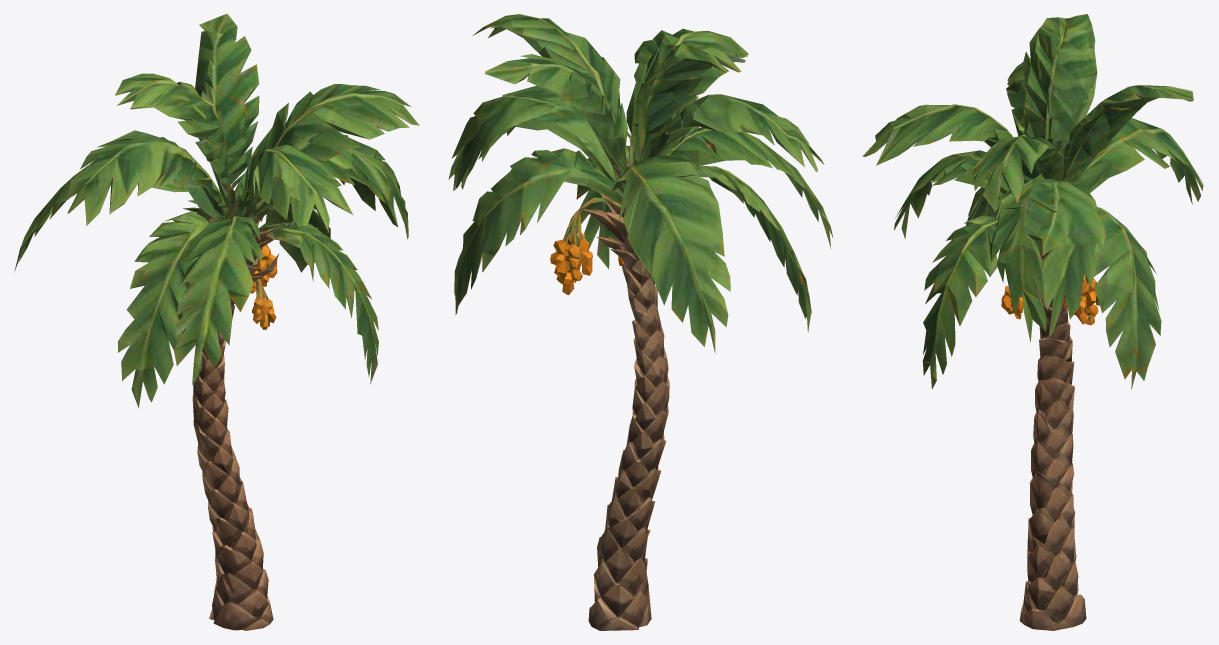
File: desert_palm.glb
3 renders of one model, left to right at view 1: azimuth 30°, elevation 25°; view 2: azimuth 150°, elevation 25°; view 3: azimuth 270°, elevation 25°, orthographic. The views are drawn at different scales.
Bounding box in the file's own units: 1.21 × 1.89 × 1.05.
1 material, 1 textured.
